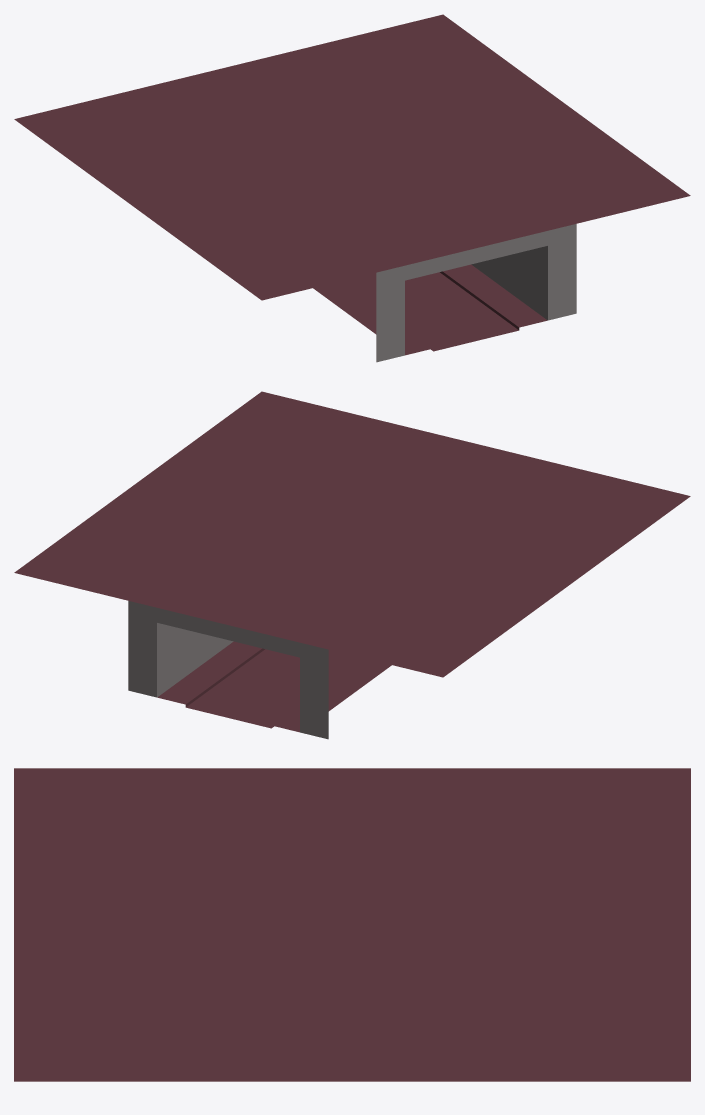
The model's file is tiles-nb-tile-road-tunnel-nb.glb.
3 views of the same model, one above another, from view 1: azimuth 30°, elevation 25°; view 2: azimuth 150°, elevation 25°; view 3: azimuth 270°, elevation 25° (orthographic). The views are drawn at different scales.
Visible parts, largest first — view 1: tile-road-tunnel-nb; view 2: tile-road-tunnel-nb; view 3: tile-road-tunnel-nb.
Boxes of the visible parts, x1,y1,x2,y2 form: tile-road-tunnel-nb: (14,14,690,362); tile-road-tunnel-nb: (14,391,690,739); tile-road-tunnel-nb: (14,768,690,1081).
Bounding box in the file's own units: 30 × 6.2 × 30.
